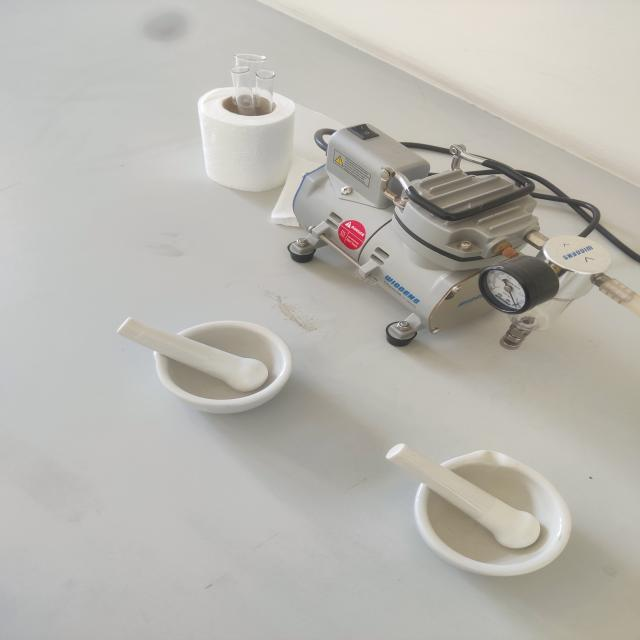Porcelain_Mortar Pestle: (367, 412, 591, 604), (95, 285, 312, 439)
